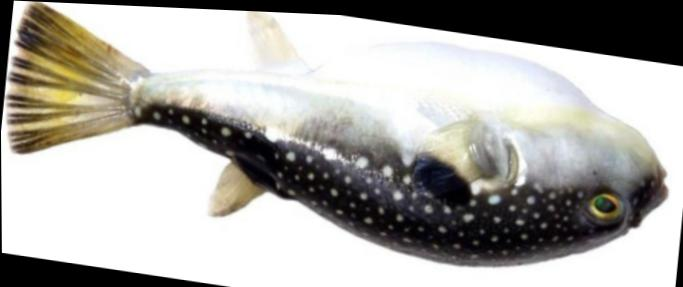fish: (8, 1, 668, 261)
